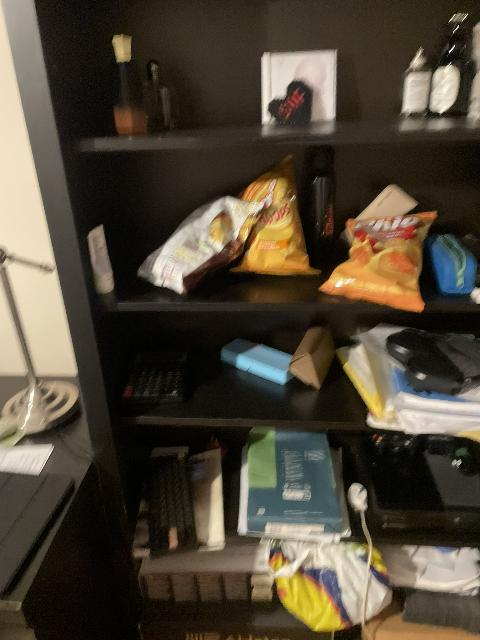Chio Cascaval 125g: (317, 209, 435, 313)
Chio Hula Hoops Cheese 70g: (227, 155, 320, 277)
Lays Beef Grilled Ribs 125g: (136, 196, 262, 295)
